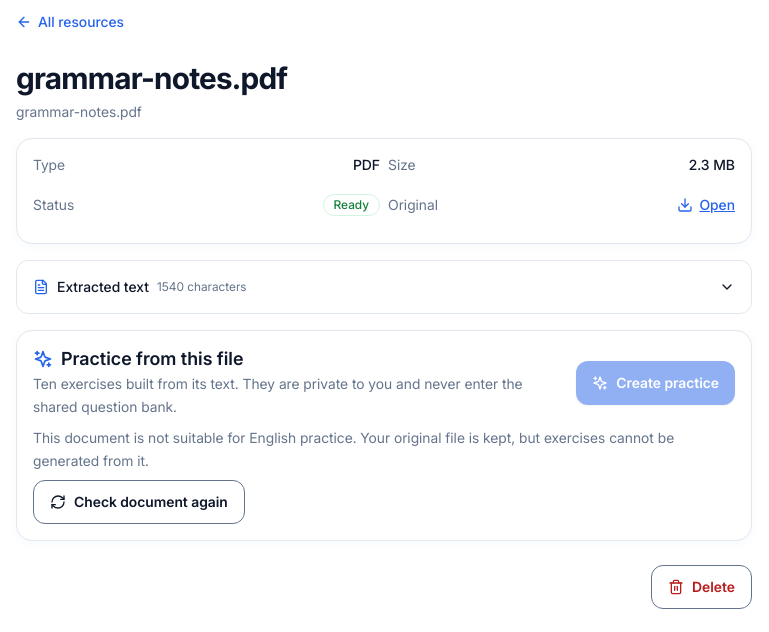
Scenario: ResourceDetailPage › blocks unsuitable content and offers an owner content recheck
Check: the text "not suitable for English practice" is shown, box [33, 429, 674, 469]
Check: the button "Create practice" is disabled, box [576, 361, 735, 405]
Click the button "Check document again": click(139, 502) [33, 480, 245, 524]
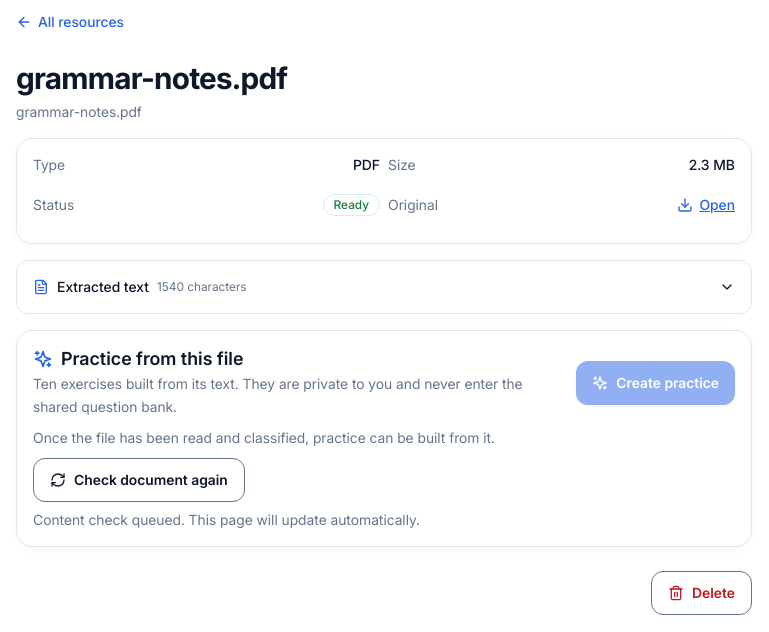
Check: the text "Content check queued. This page will update automatically." is shown, box [33, 510, 420, 528]
